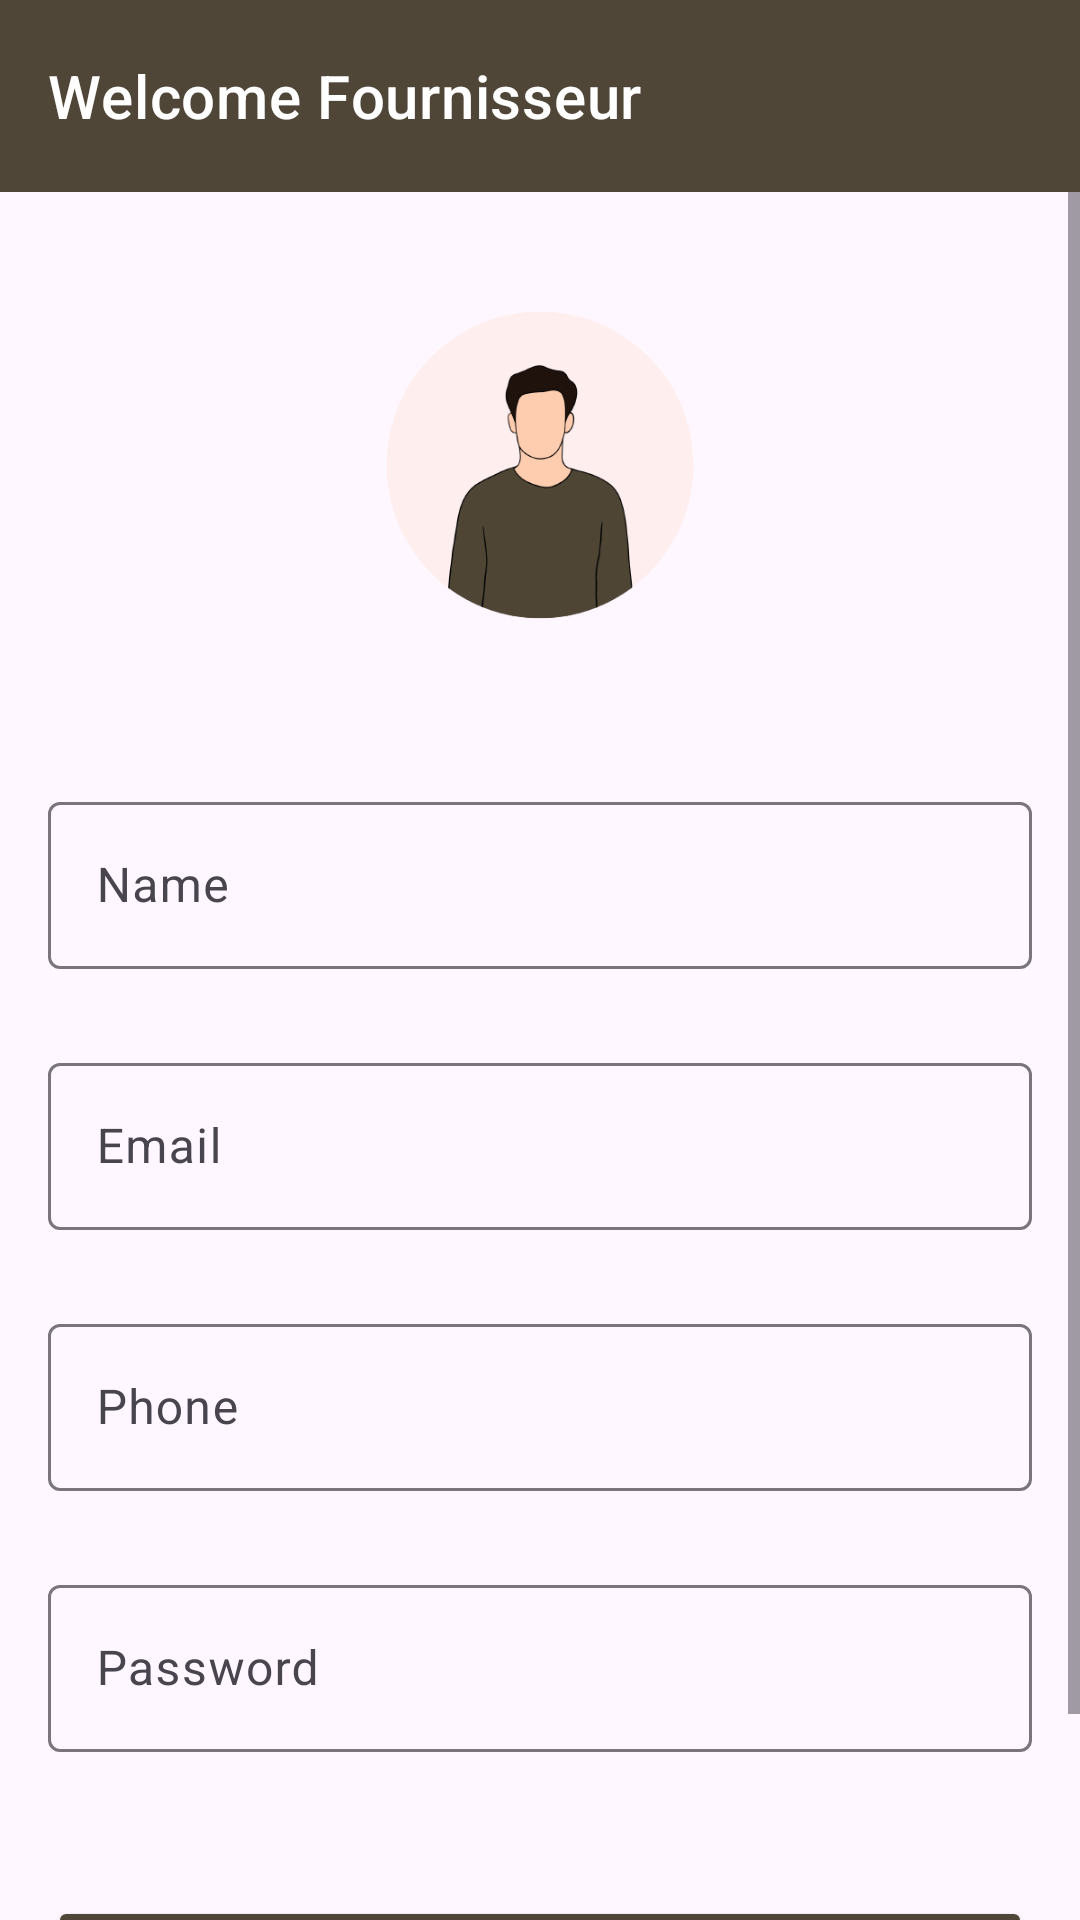

Icons on this 1080 × 1920 Android screen, each with the point to tap as (x,y):
profile: (540,491)
